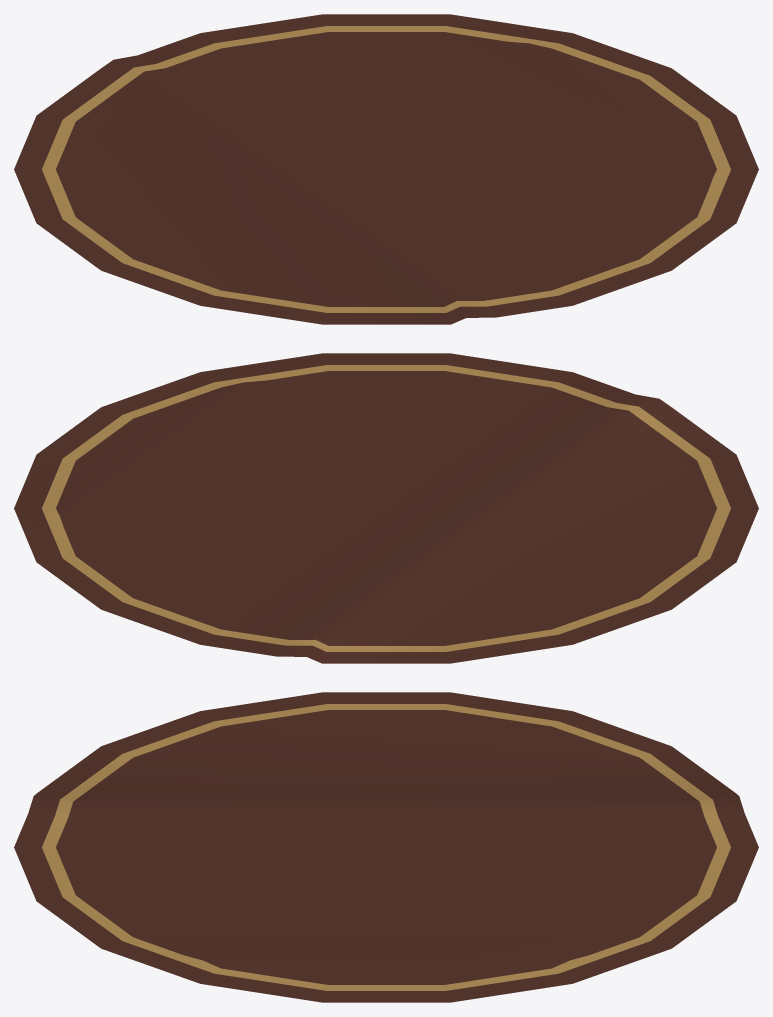
File: Carpet_Round.glb
The picture shows the model from 3 angles, top to bottom: view 1: azimuth 30°, elevation 25°; view 2: azimuth 150°, elevation 25°; view 3: azimuth 270°, elevation 25°; orthographic projection.
Parts seen in each view (by area): view 1: Carpet_Round_Cylinder.038; view 2: Carpet_Round_Cylinder.038; view 3: Carpet_Round_Cylinder.038.
Part boxes in pixels (x1,y1,x2,y2): Carpet_Round_Cylinder.038: (14,14,758,324); Carpet_Round_Cylinder.038: (14,353,758,663); Carpet_Round_Cylinder.038: (14,692,758,1002).
Size of the model in its own units: 2.49 by 0.0158 by 2.53.
